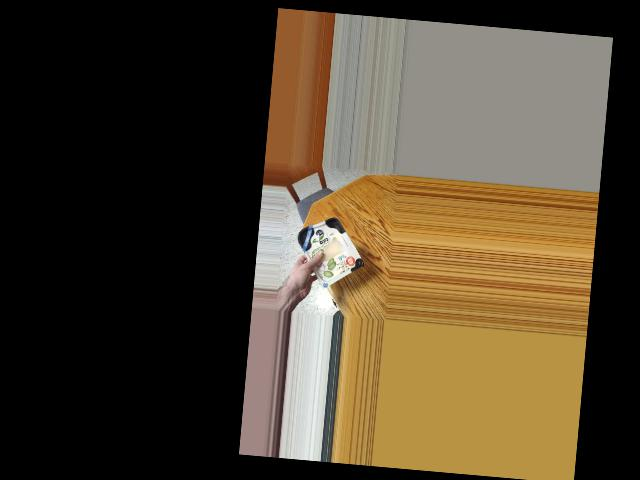cheese: (290, 217, 363, 279)
